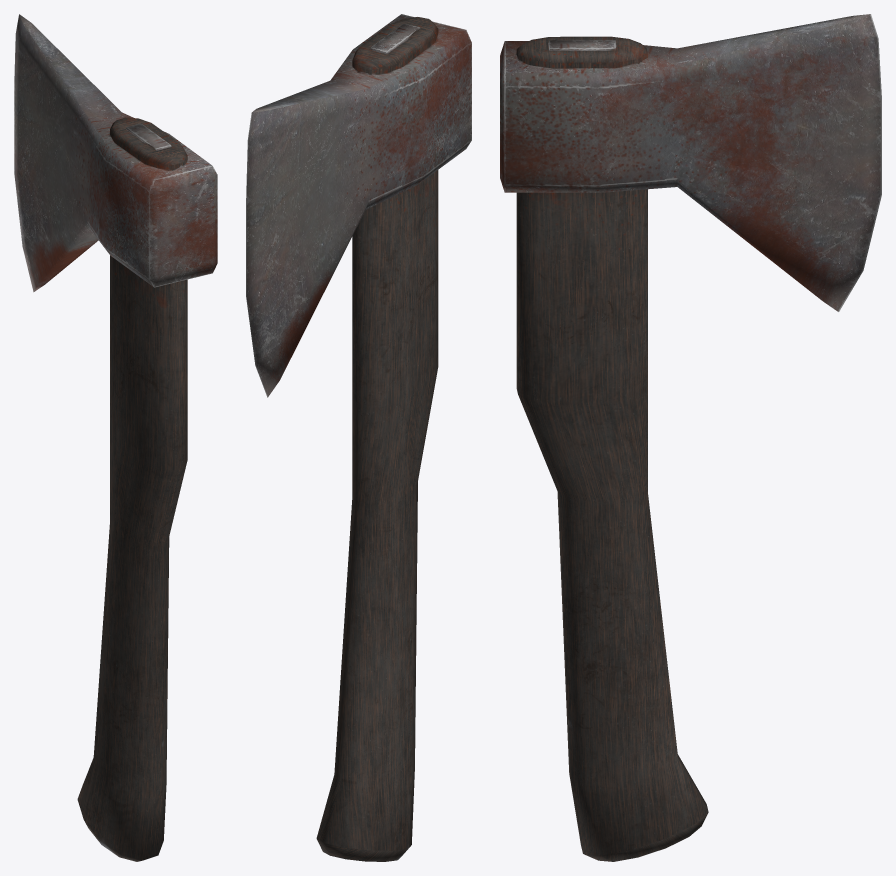
The picture shows the model from 3 angles, left to right: view 1: azimuth 30°, elevation 25°; view 2: azimuth 150°, elevation 25°; view 3: azimuth 270°, elevation 25°; orthographic projection. The views are drawn at different scales.
Parts seen in each view (by area): view 1: Ax; view 2: Ax; view 3: Ax.
Boxes of the visible parts, bbox=[...] form: Ax: bbox=[14, 14, 217, 861]; Ax: bbox=[246, 14, 471, 861]; Ax: bbox=[500, 14, 881, 861].
Bounding box in the file's own units: 2.88 × 30.02 × 12.33.
